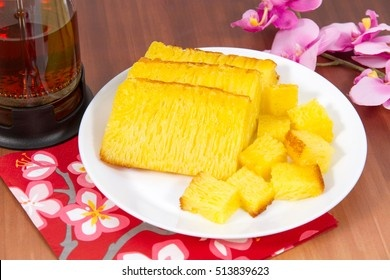bika_ambon: (95, 74, 246, 179)
